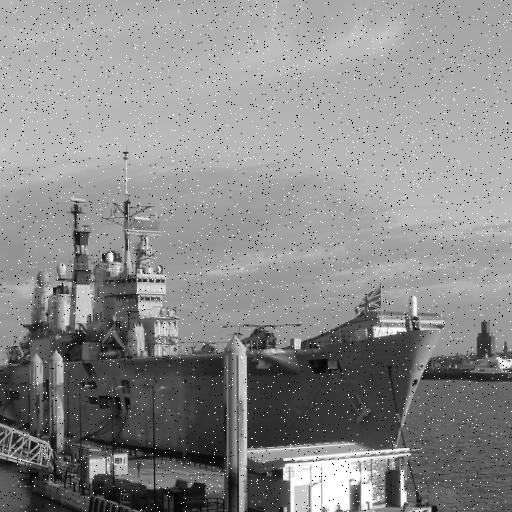Portanaves: (1, 127, 468, 512)
